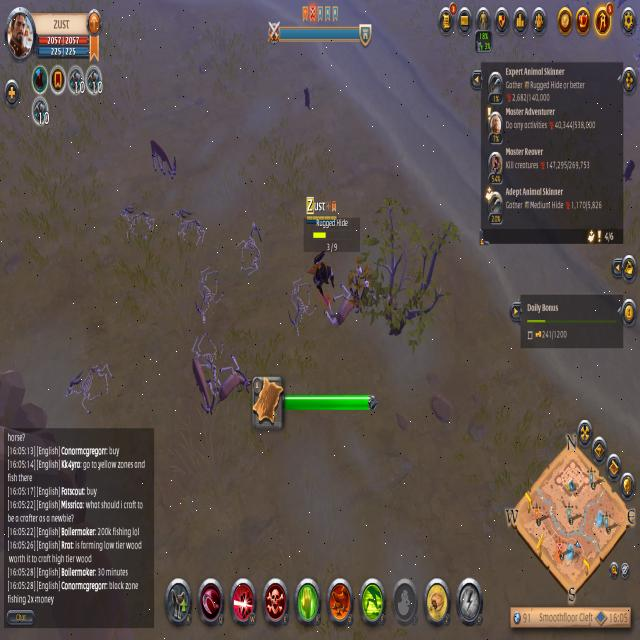deer_alive: (143, 128, 182, 192), (184, 352, 218, 422)
deer_dead: (327, 276, 361, 330), (210, 360, 252, 403)
harvesting: (283, 380, 382, 428)
